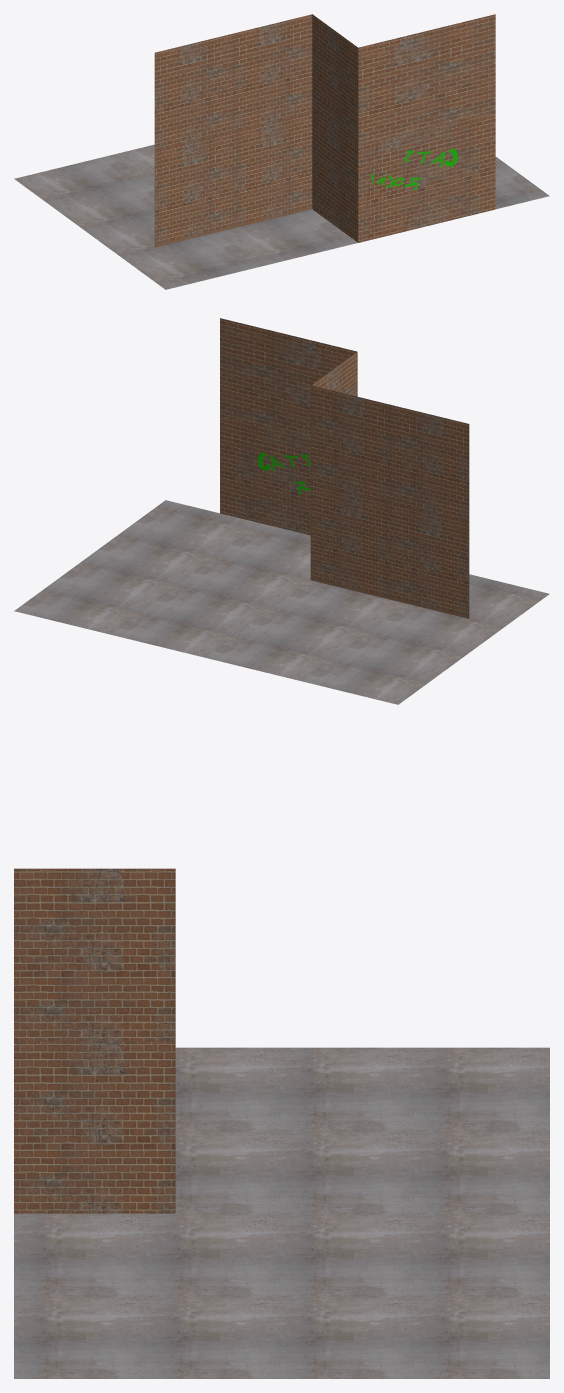
Rendered from Parede.glb.
3 views of the same model, one above another, from view 1: azimuth 30°, elevation 25°; view 2: azimuth 150°, elevation 25°; view 3: azimuth 270°, elevation 25° (orthographic). The views are drawn at different scales.
Parts seen in each view (by area): view 1: Object_2, Object_3; view 2: Object_2, Object_3; view 3: Object_3, Object_2.
Part boxes in pixels (left/top/right/bottom): Object_2: left=154, top=14, right=495, bottom=247; Object_3: left=14, top=144, right=549, bottom=289; Object_2: left=220, top=318, right=469, bottom=618; Object_3: left=14, top=500, right=549, bottom=704; Object_3: left=14, top=1047, right=549, bottom=1378; Object_2: left=14, top=868, right=175, bottom=1213.
Bounding box in the file's own units: 41.94 × 20.37 × 28.68.
2 materials, 2 textured.
